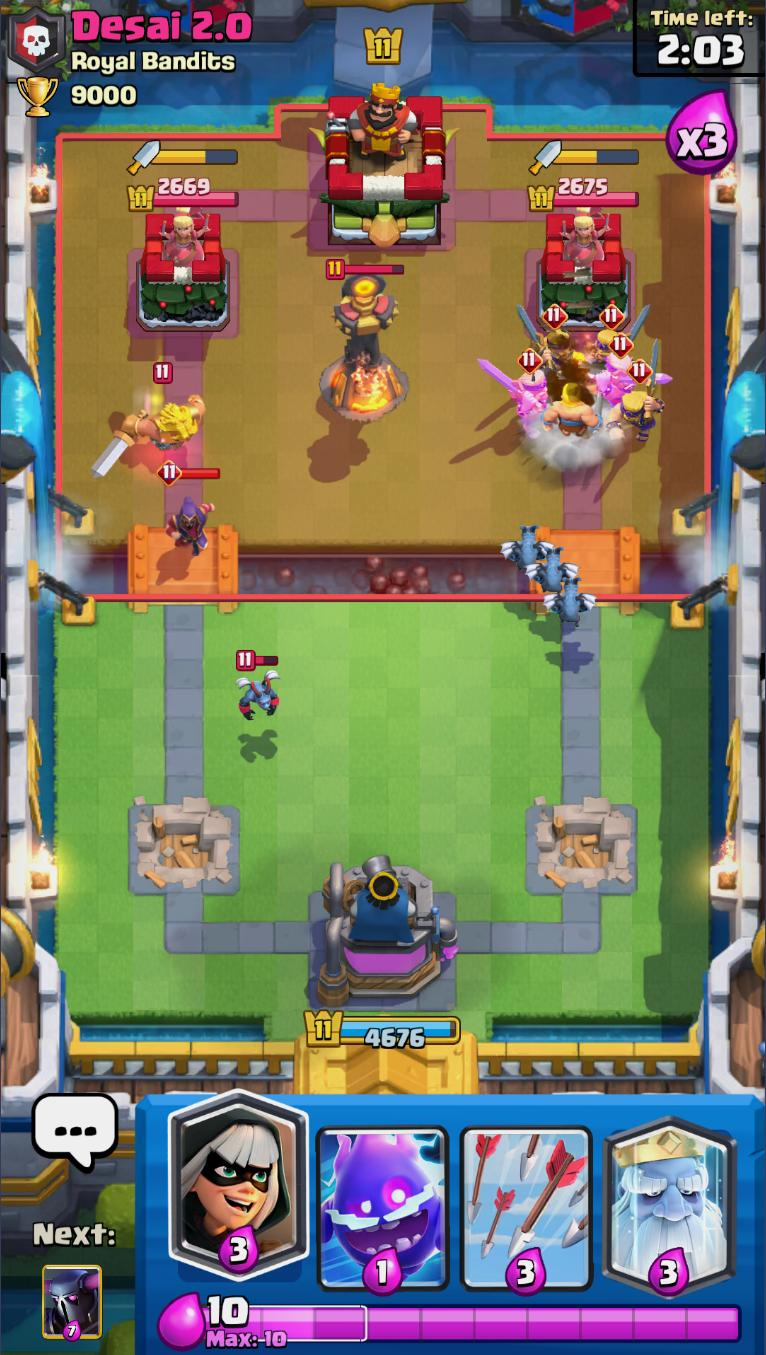ArrowDeck: (454, 1096, 600, 1296)
BanditDeck: (166, 1096, 311, 1294)
DaggerDuchess: (157, 206, 210, 266), (557, 206, 611, 264)
Daggers: (126, 140, 240, 176), (531, 139, 640, 173)
ElectroSpiritDeck: (313, 1099, 451, 1297)
Elixir: (203, 1294, 744, 1351)
EnemyTower: (136, 214, 234, 334), (539, 211, 633, 333)
EvoBarbarian: (479, 351, 551, 433), (513, 299, 584, 381), (603, 357, 667, 443), (590, 334, 671, 401), (587, 301, 651, 374)
EvoWizard: (157, 459, 223, 557)
GoldenKnight: (90, 363, 207, 481)
Inferno: (317, 257, 414, 426)
KingTower: (320, 74, 451, 251)
Minion: (233, 647, 281, 724)
MyBarbarian: (540, 383, 603, 441)
MyKingHP: (304, 1009, 461, 1050)
MyKingTower: (314, 859, 460, 1011)
MyMinion: (543, 576, 599, 630), (500, 521, 554, 576), (526, 546, 580, 596)
MyPrincessTowerBrocken: (124, 796, 240, 893), (527, 794, 641, 891)
PekkaNext: (41, 1264, 103, 1343)
RoyaleGhostDeck: (597, 1094, 741, 1299)
TowerPrincessHP: (127, 174, 240, 210), (530, 176, 641, 210)
